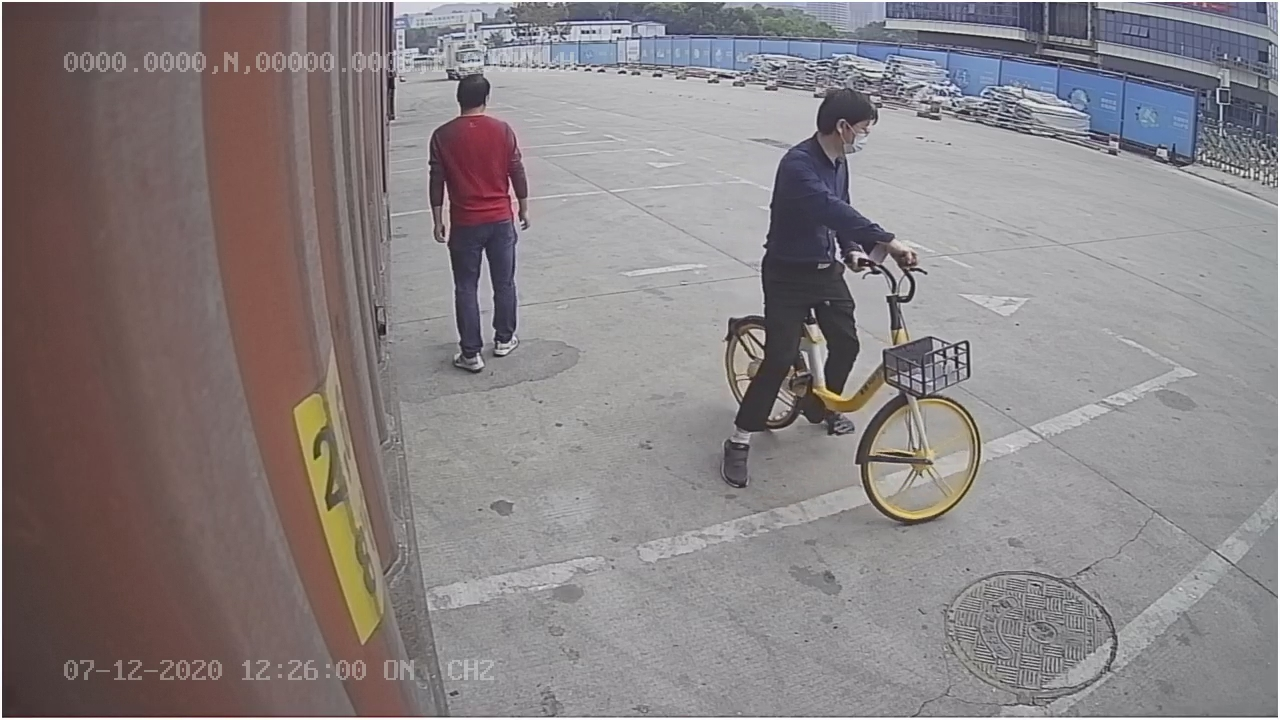person: (423, 71, 536, 376)
